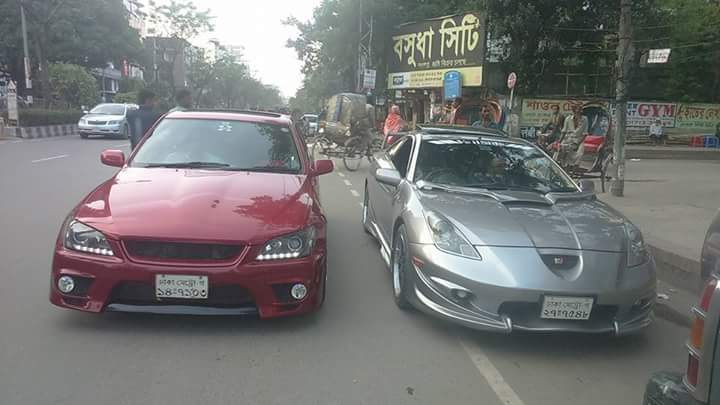registration_plate: (154, 273, 208, 299), (539, 295, 593, 319)
